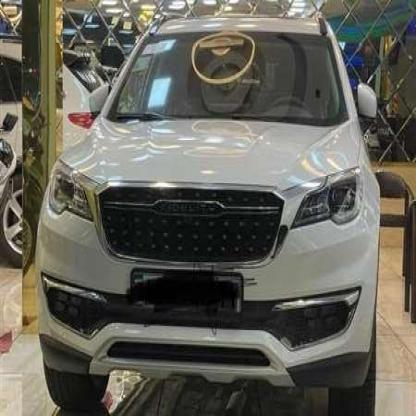Car: (38, 11, 381, 416), (0, 31, 115, 200)
